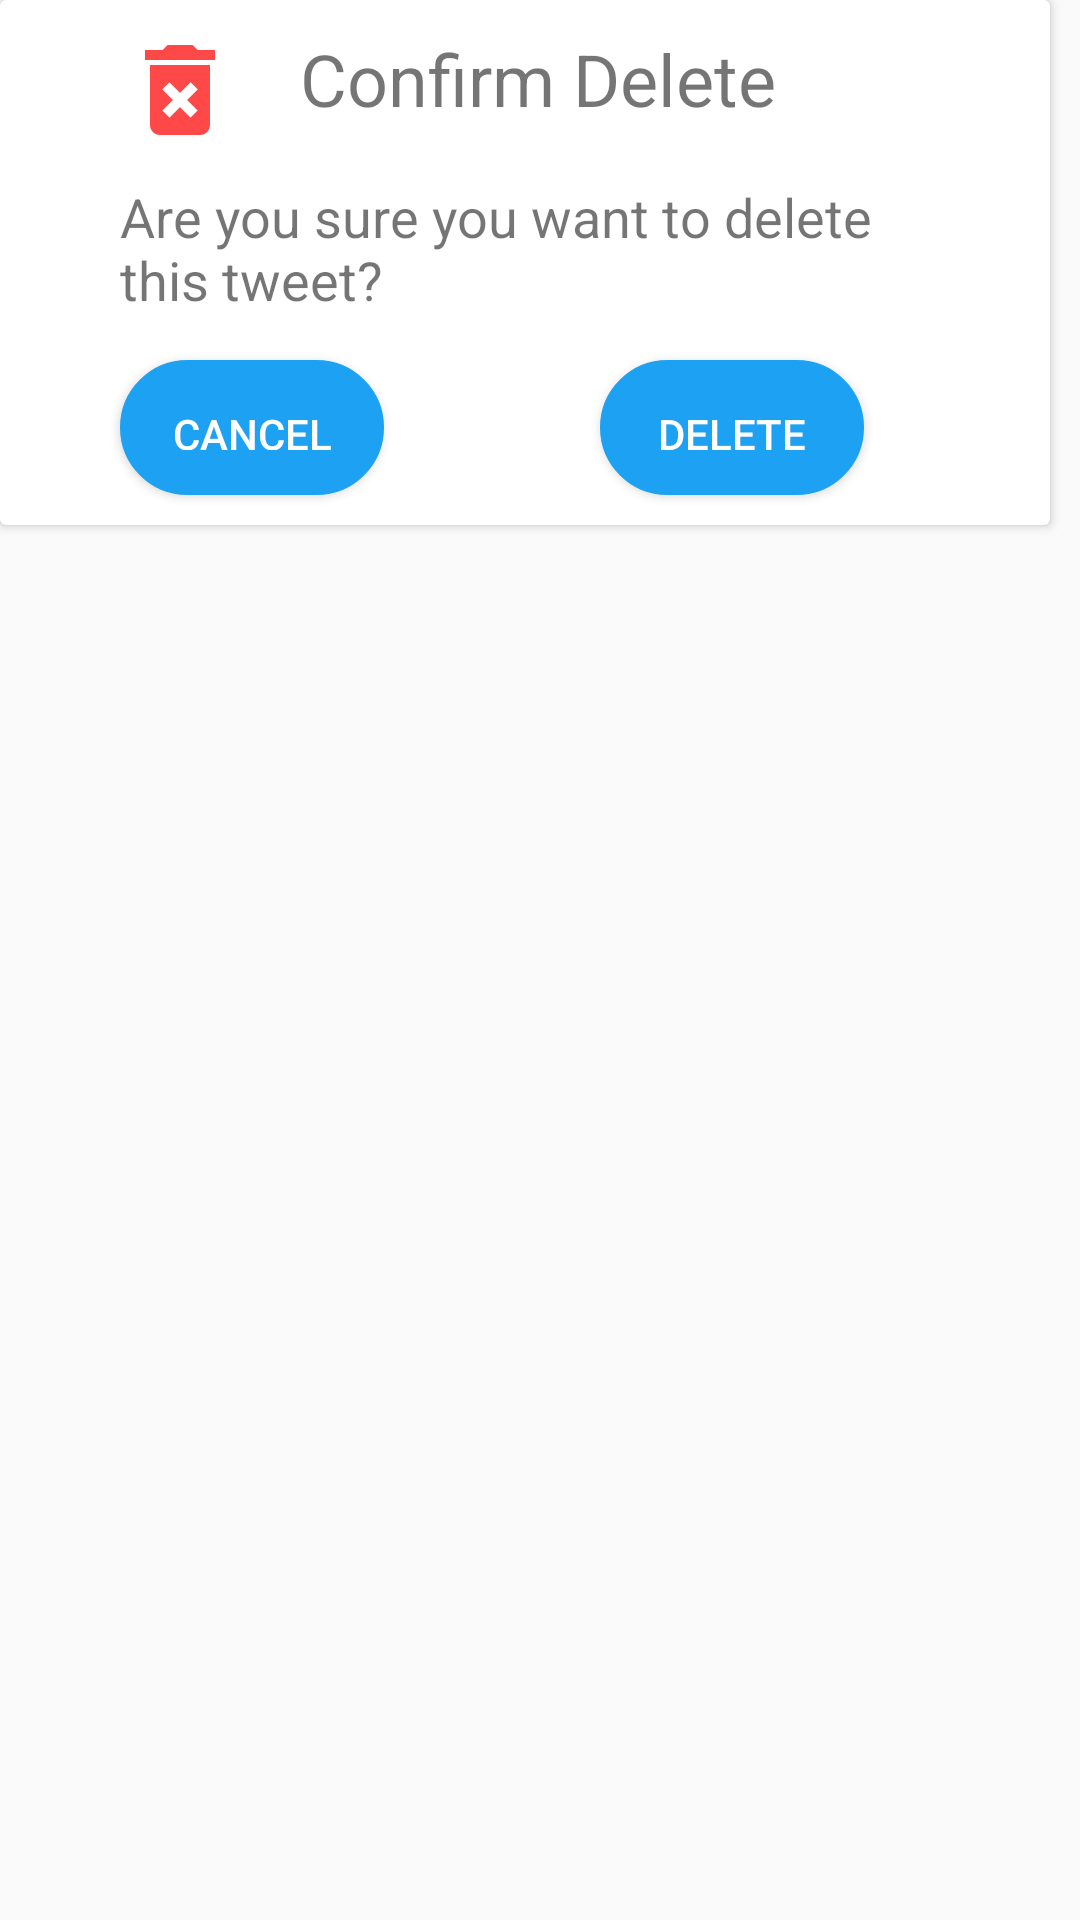

Named icons in this screenshot (1080 x 1920) and their bounding boxes, (left=x1, top=y1, right=x2, bottom=y2):
delete forever: (left=145, top=45, right=215, bottom=135)
